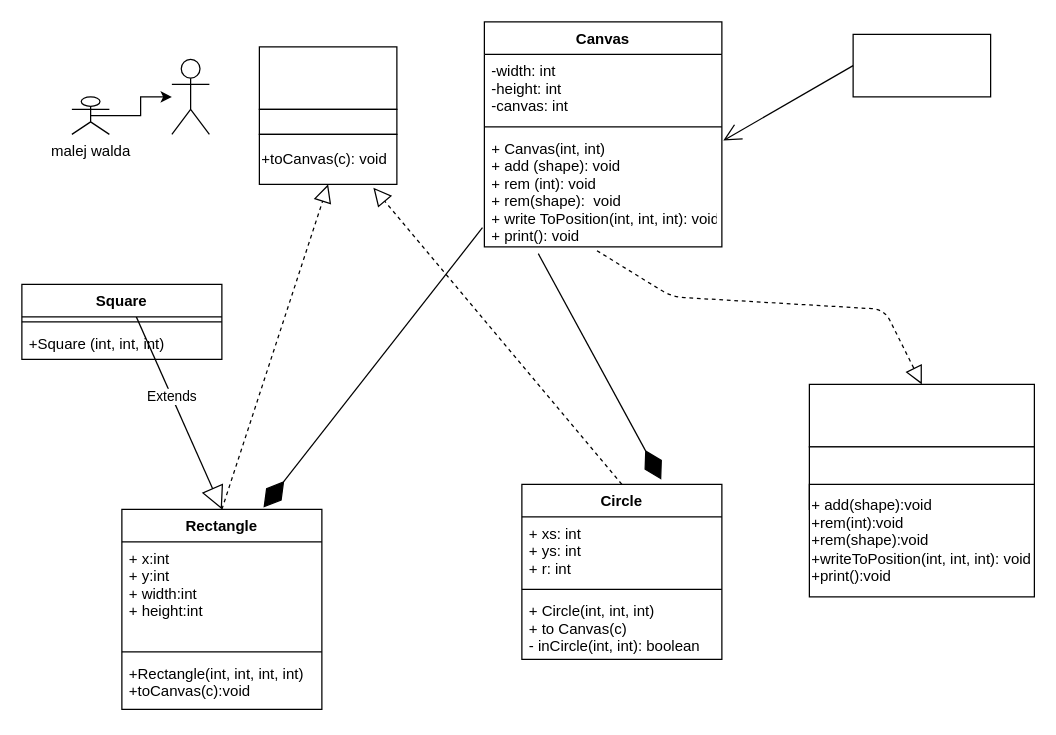
This 1056x735 diagram has some shape labels left out. The shapes that lost their labels are listed below. From the top down, each one's centre as x and y in pixels, then its label:
(x=327, y=77): «interface» IShape
(x=921, y=65): TextArt
(x=190, y=96): velkej walda
(x=921, y=415): «interface» ICanvas
